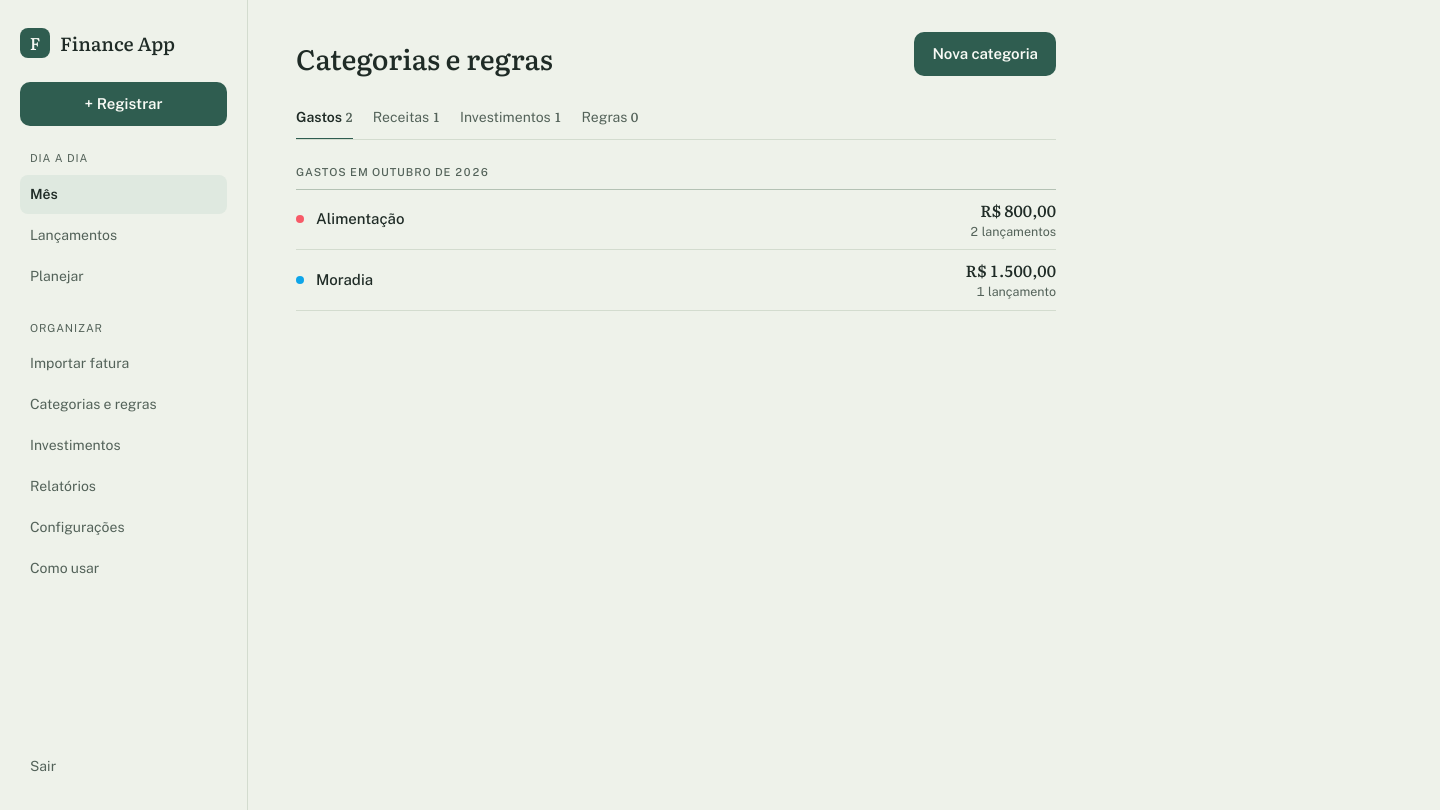
Test: Página de categorias › o formulário de nova categoria já vem com o tipo da aba aberta
The image size is (1440, 810).
Click the tab "Investimentos 1" at (511, 118), box [460, 96, 562, 140]
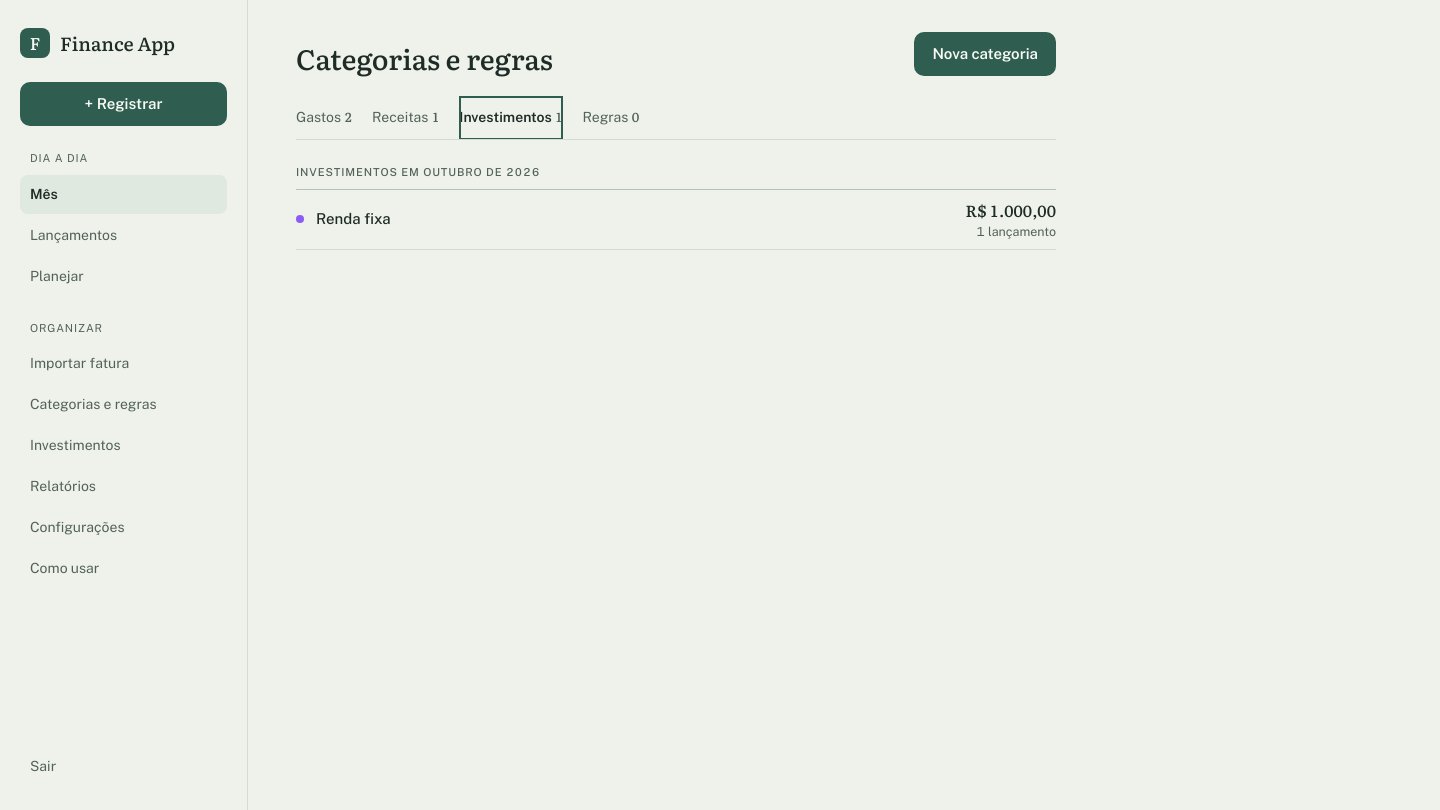
Click the button "Nova categoria" at (985, 54), box [914, 32, 1056, 76]
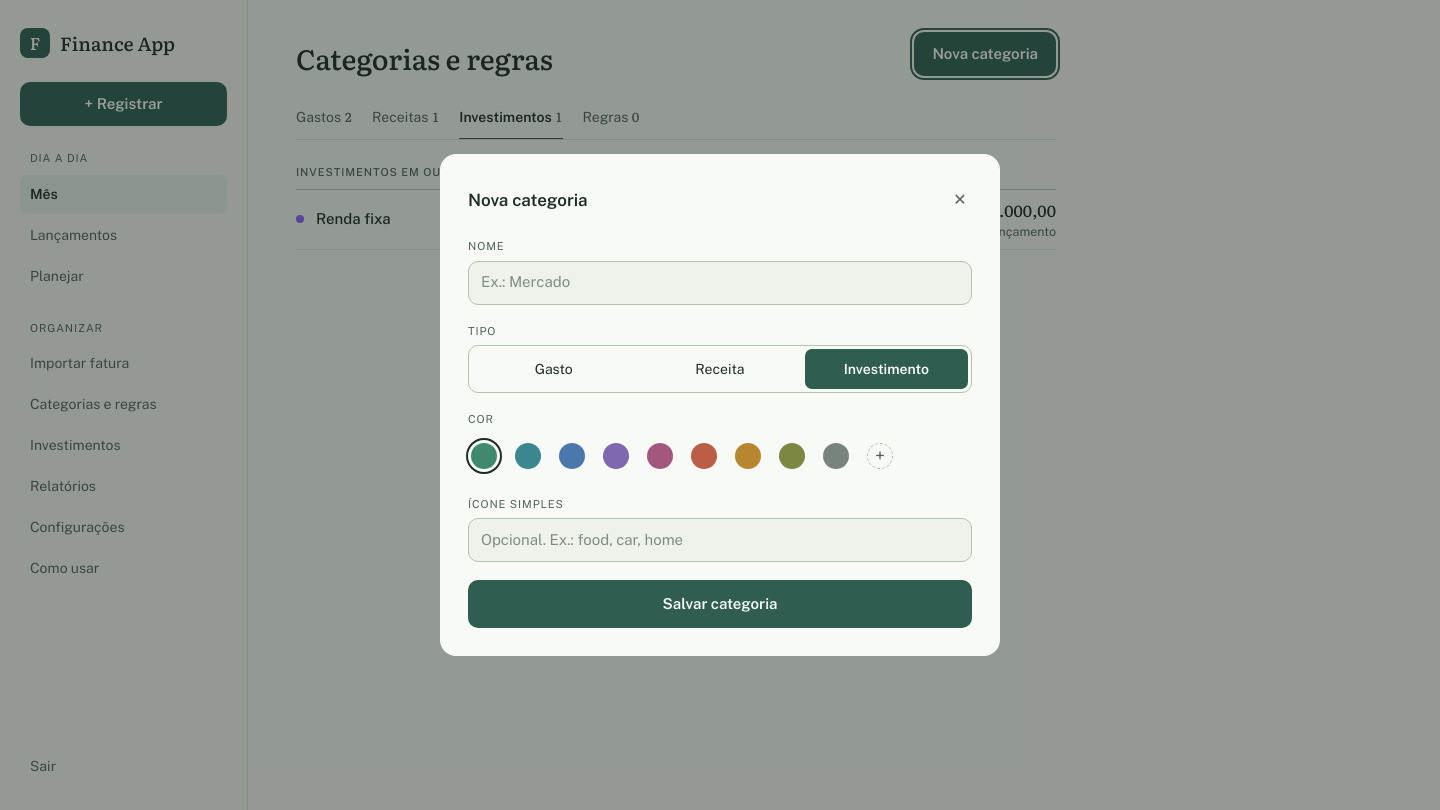
Check: the 1st radio button labelled "Investimento" is checked, box [805, 349, 968, 389]
